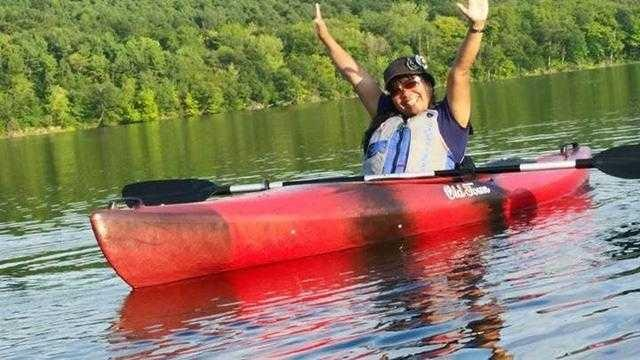kayak: (90, 146, 595, 294)
